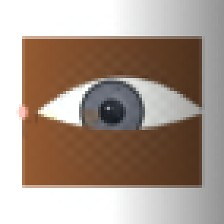pinguecula_lesion: (21, 95, 72, 136)
